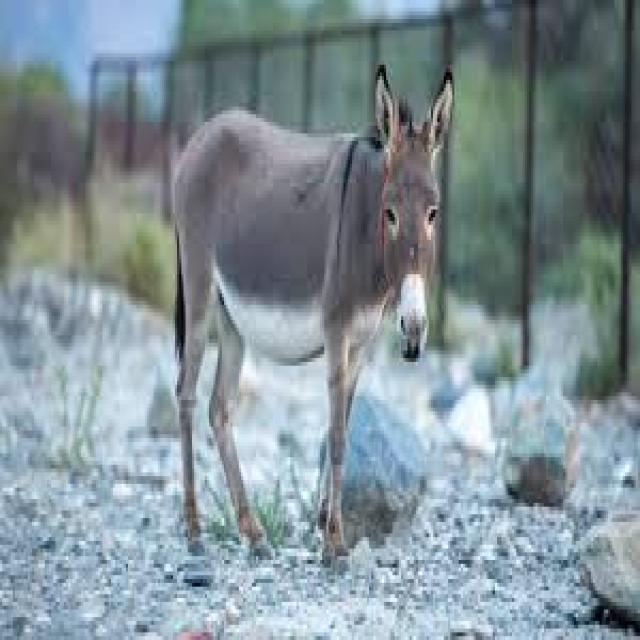Donkey: (156, 61, 502, 640)
